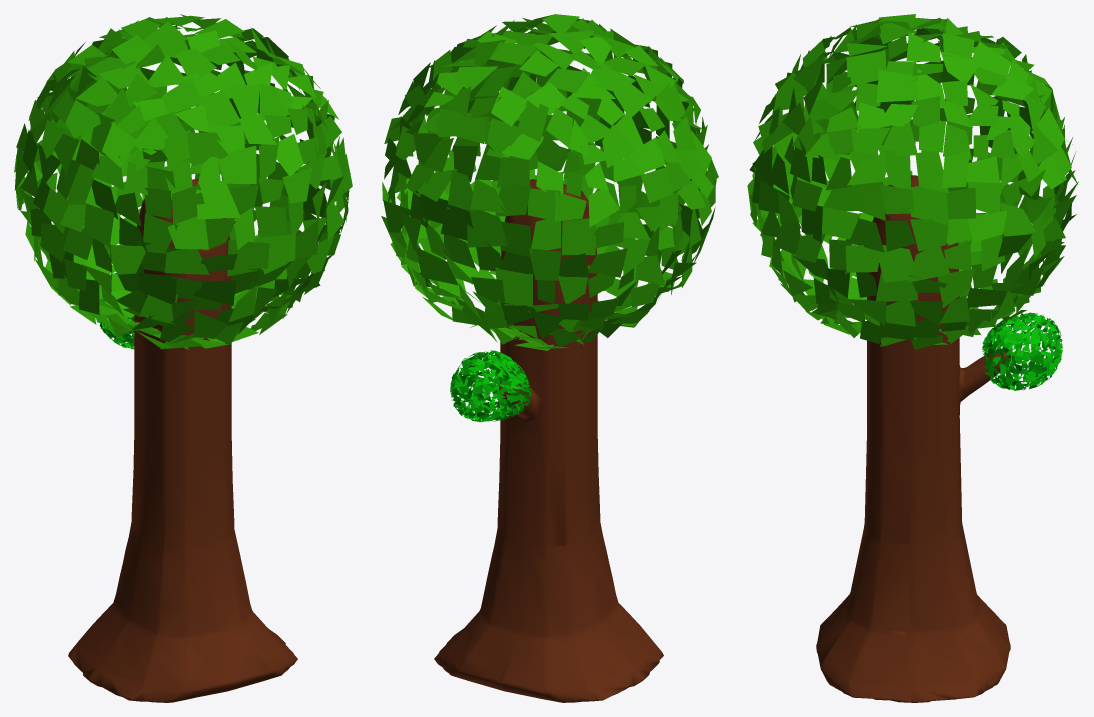
The model's file is Tree.glb.
3 renders of one model, left to right at view 1: azimuth 30°, elevation 25°; view 2: azimuth 150°, elevation 25°; view 3: azimuth 270°, elevation 25°, orthographic.
Visible parts, largest first — view 1: Cube.001, Cube; view 2: Cube.001, Cube, Cube.002; view 3: Cube.001, Cube, Cube.002.
Boxes of the visible parts, x1,y1,x2,y2 form: Cube.001: [14, 14, 352, 349]; Cube: [68, 179, 297, 702]; Cube.001: [381, 14, 718, 350]; Cube: [434, 179, 663, 702]; Cube.002: [450, 350, 531, 422]; Cube.001: [747, 14, 1078, 349]; Cube: [816, 175, 1010, 702]; Cube.002: [982, 312, 1062, 390].
Size of the model in its own units: 7.08 by 14.9 by 7.13.
